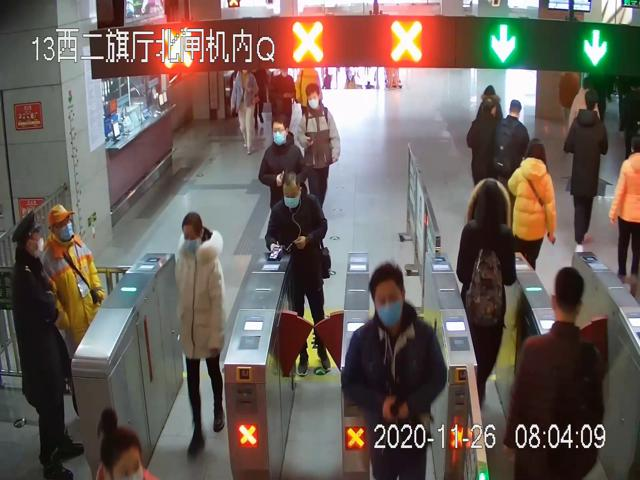person: (11, 209, 84, 477), (39, 204, 104, 417), (265, 170, 331, 376), (173, 210, 228, 457), (460, 179, 517, 405), (563, 88, 607, 252), (508, 141, 556, 267), (297, 86, 340, 214), (260, 112, 306, 214)
